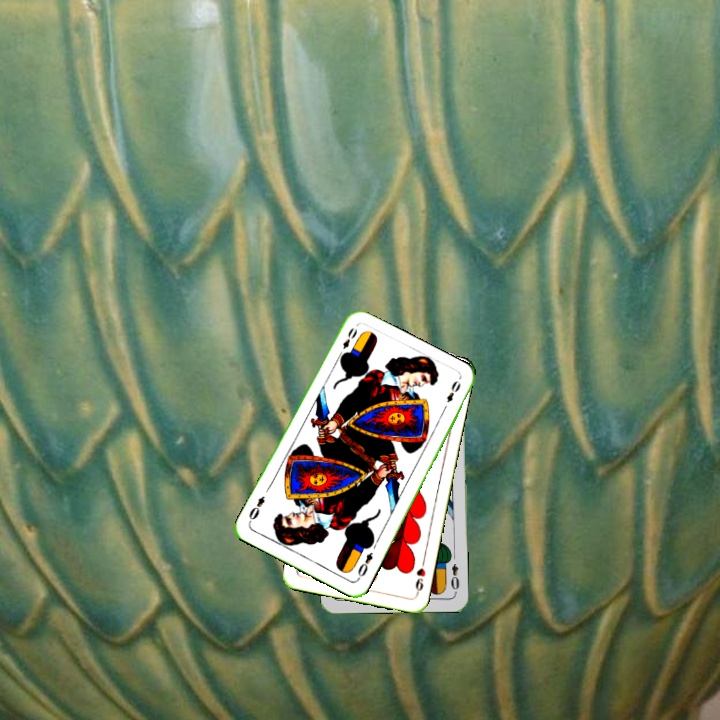EO: (334, 324, 360, 360), (354, 548, 375, 582), (447, 560, 462, 596)
H9: (411, 557, 428, 597)
